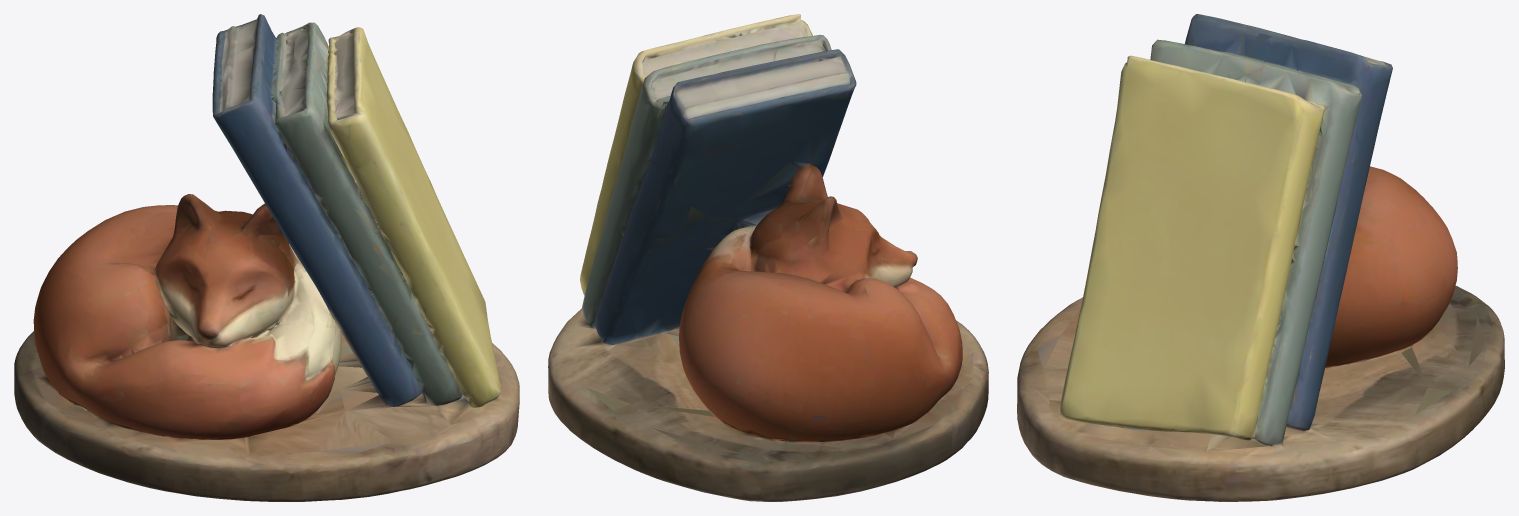
File: sc-bookend-fox.glb
The picture shows the model from 3 angles, left to right: view 1: azimuth 30°, elevation 25°; view 2: azimuth 150°, elevation 25°; view 3: azimuth 270°, elevation 25°; orthographic projection. The views are drawn at different scales.
Parts seen in each view (by area): view 1: geometry_0; view 2: geometry_0; view 3: geometry_0.
Boxes of the visible parts, x1,y1,x2,y2 form: geometry_0: (14,14,519,501); geometry_0: (548,14,988,501); geometry_0: (1017,14,1504,501).
Bounding box in the file's own units: 1 × 0.8252 × 0.9858.
Materials: 1 (1 with a texture image).
